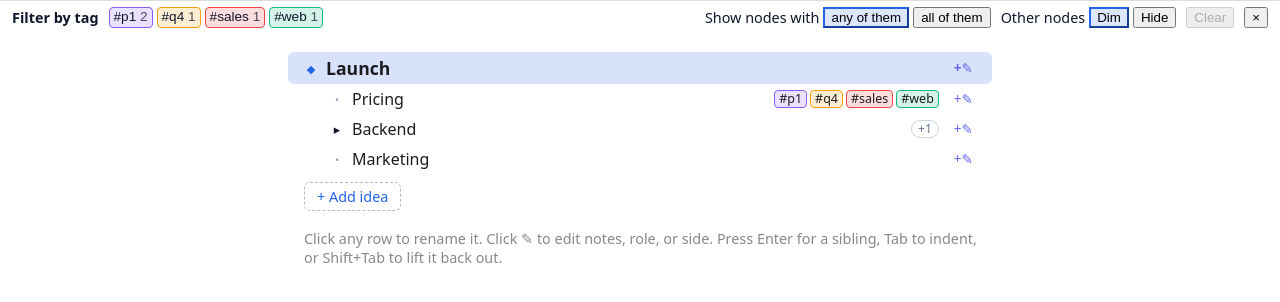
Scenario: the tag filter (#150, HB4) › hide mode lists only matches and their path; × clears the filter
Click the button with test id "tag-filter-q4": (178, 17) [156,7,200,28]
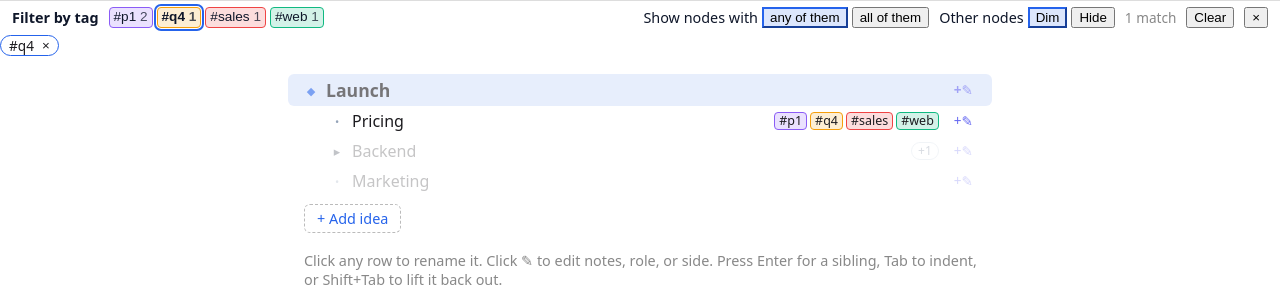
Expected: the list item with test id "outline-row-c" has class "tag-dim", [288,166,992,196]
Click the button with test id "tag-filter-hide": (1093, 18) [1071,7,1115,28]
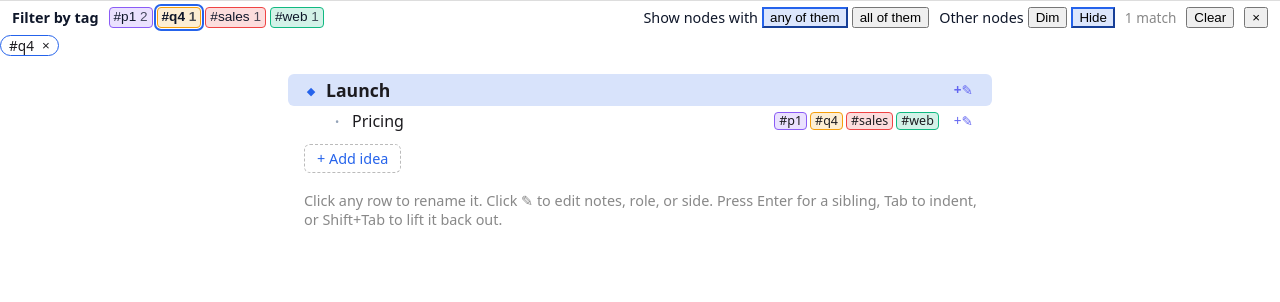
Expected: the list item with test id "outline-row-a" is shown, [288,106,992,136]
Expected: the element with test id "tag-filter-chip" shows "#q4", [9,36,34,55]
Expected: the list item with test id "outline-row-c" is gone
Click the button with test id "tag-filter-chip-clear": (46, 46) [36,38,56,53]
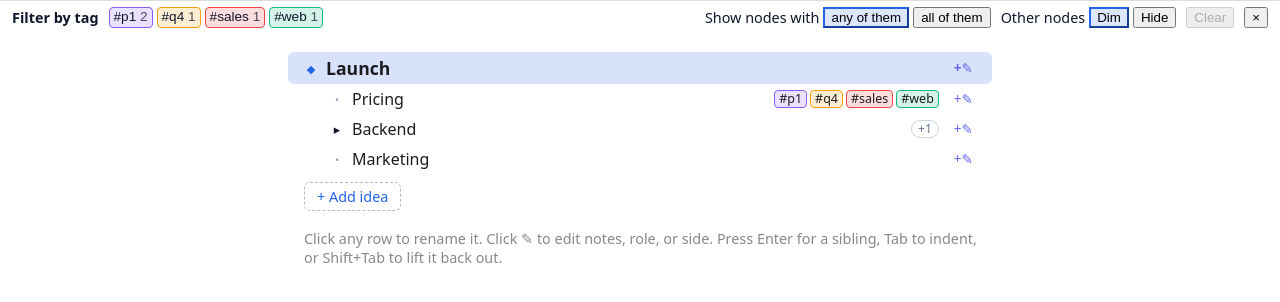
Expected: the list item with test id "outline-row-c" is shown, [288,144,992,174]
Expected: the element with test id "tag-filter-chip" is gone
